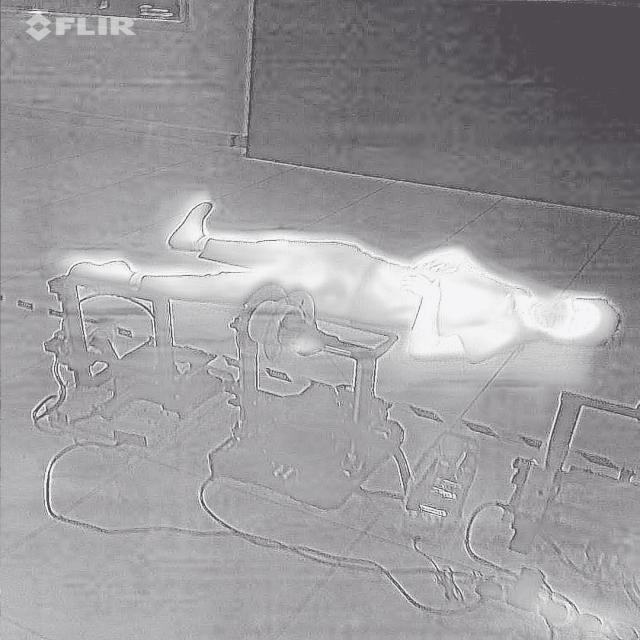Victim: (53, 196, 628, 360)
